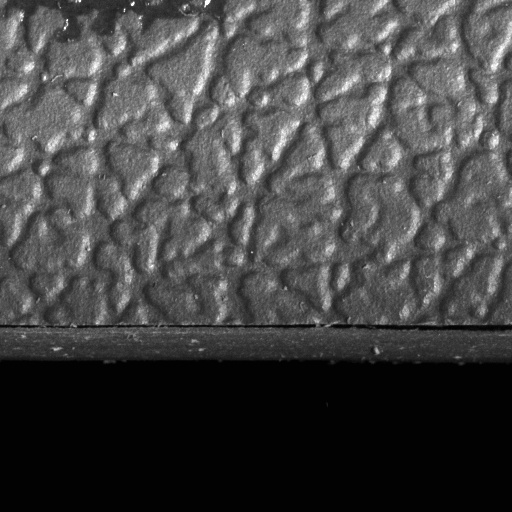jiaofeng: (0, 320, 511, 342)
